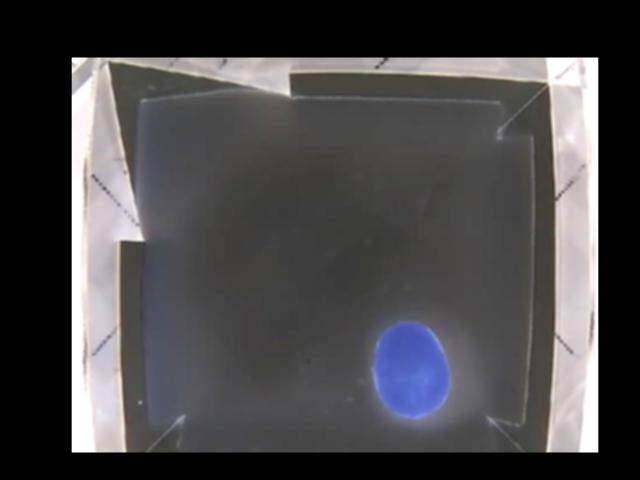Potato: (371, 320, 451, 419)
